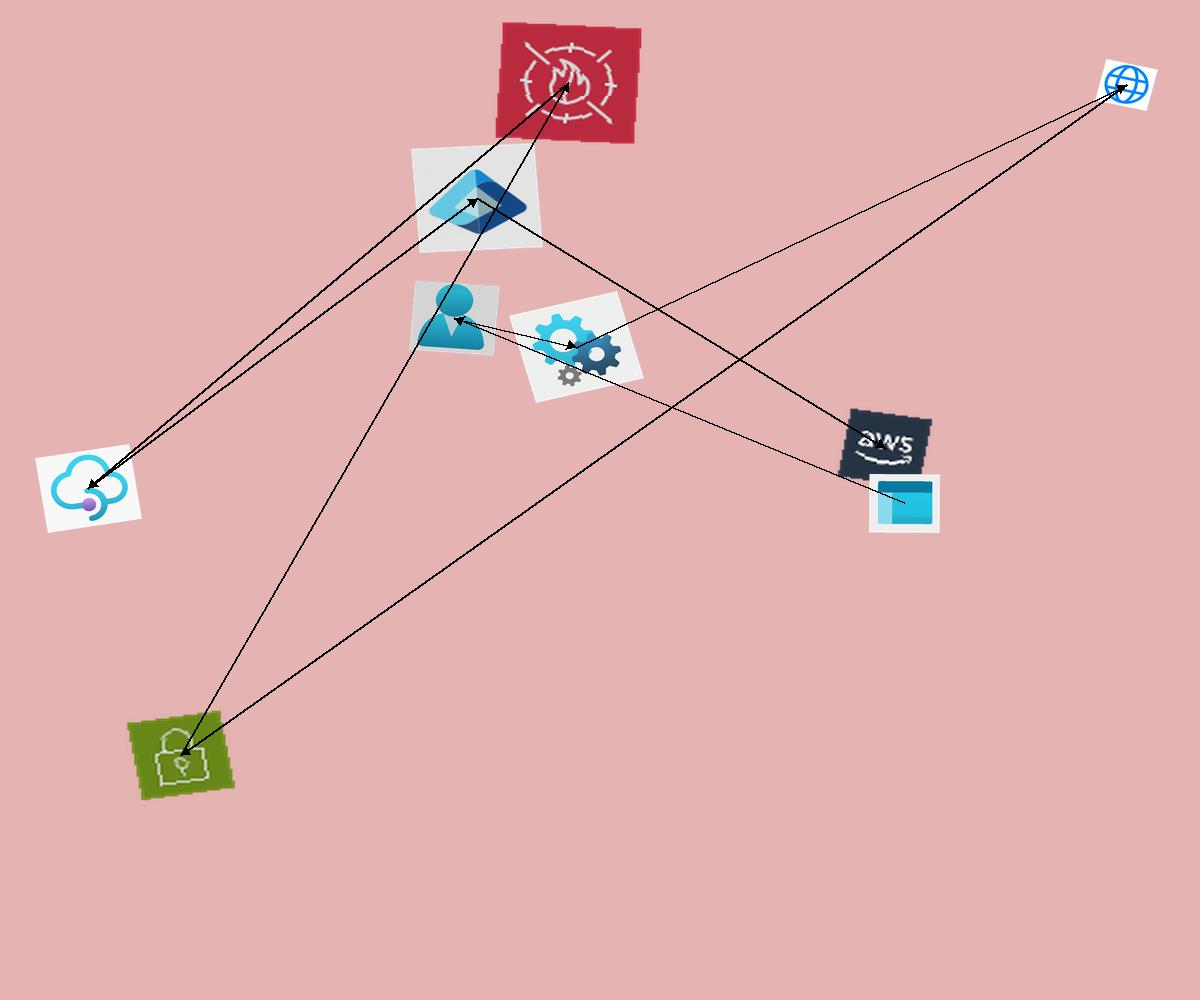AWS-Cloud-logo: (836, 407, 934, 489)
AWS-Public-subnet: (125, 709, 237, 802)
AWS-WAF: (494, 21, 643, 145)
Azure_api: (509, 291, 644, 403)
Azure_api_gateway: (35, 444, 142, 533)
Azure_http: (1095, 59, 1158, 111)
Azure_management-portal: (869, 474, 940, 533)
Azure_microsoft_entra: (411, 143, 543, 253)
Azure_users: (409, 280, 500, 356)
